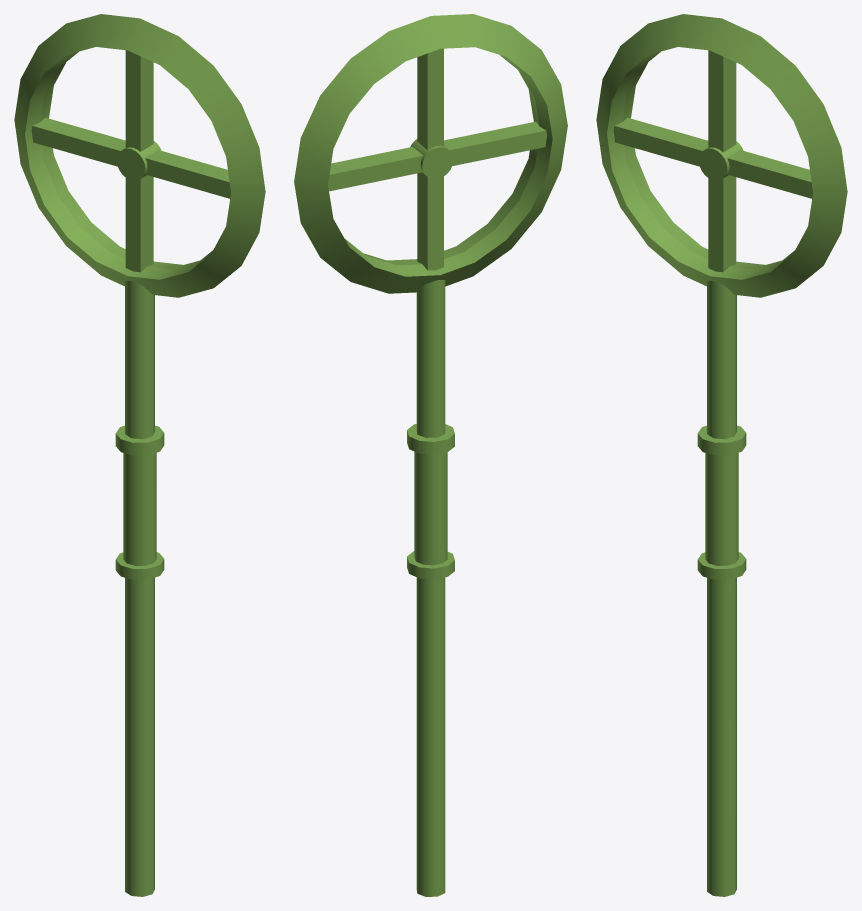
Rendered from HealerStaff.fbx.
3 views of the same model, side by side, from view 1: azimuth 90°, elevation 25°; view 2: azimuth 150°, elevation 25°; view 3: azimuth 270°, elevation 25° (orthographic).
Visible parts, largest first — view 1: HealerStalf; view 2: HealerStalf; view 3: HealerStalf.
Part boxes in pixels (bbox=[...]): HealerStalf: bbox=[14, 14, 265, 896]; HealerStalf: bbox=[294, 14, 567, 896]; HealerStalf: bbox=[596, 14, 847, 896].
Size of the model in its own units: 31.43 by 173 by 45.11.
